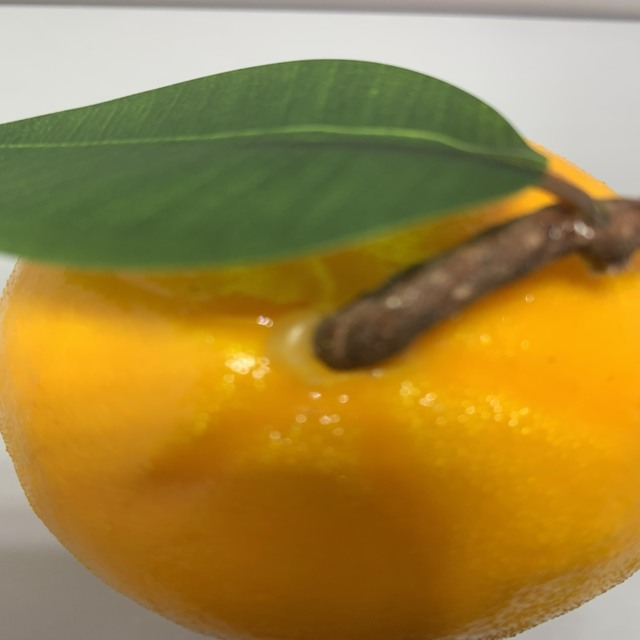Cam vang: (0, 63, 640, 640)
